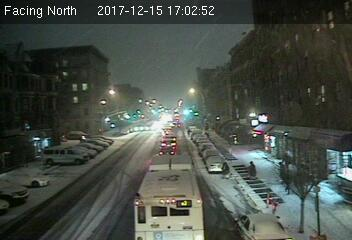bus: (132, 155, 209, 240)
car: (233, 212, 290, 240), (203, 155, 229, 172), (160, 139, 175, 148)
pedestrian: (247, 159, 258, 179)
